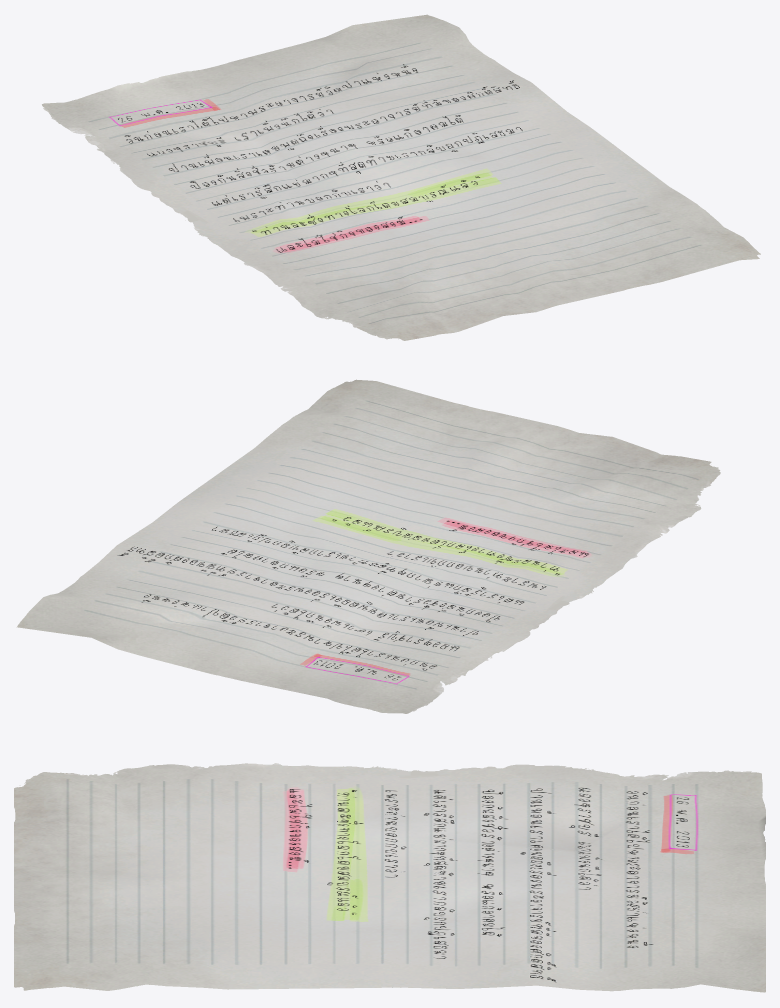
The model's file is diary06.FBX.
3 views of the same model, one above another, from view 1: azimuth 30°, elevation 25°; view 2: azimuth 150°, elevation 25°; view 3: azimuth 270°, elevation 25° (orthographic). The views are drawn at different scales.
Visible parts, largest first — view 1: SM_Diary2; view 2: SM_Diary2; view 3: SM_Diary2.
Boxes of the visible parts, x1=… form: SM_Diary2: x1=42, y1=14, x2=760, y2=340; SM_Diary2: x1=16, y1=379, x2=720, y2=713; SM_Diary2: x1=14, y1=763, x2=765, y2=992.
Bounding box in the file's own units: 18.8 × 0.5262 × 26.3.
1 material, 1 textured.
